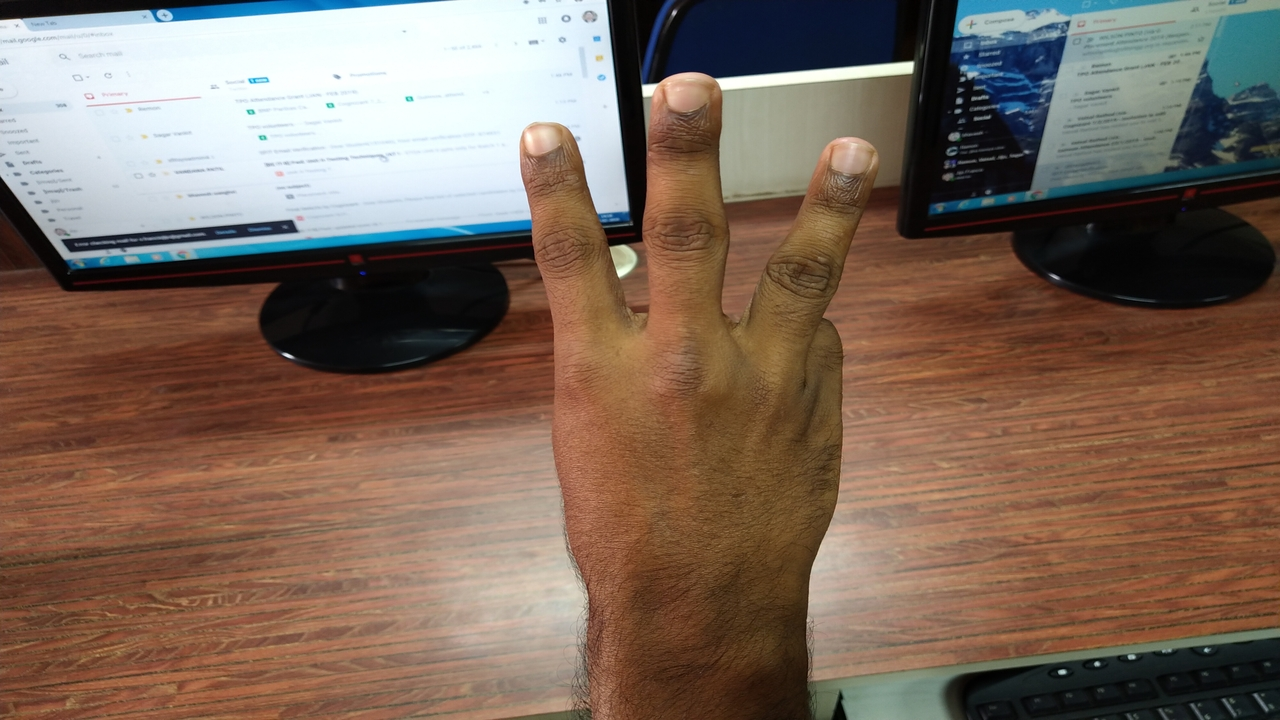fingertip: (650, 66, 728, 136), (510, 116, 580, 172), (823, 127, 877, 189)
